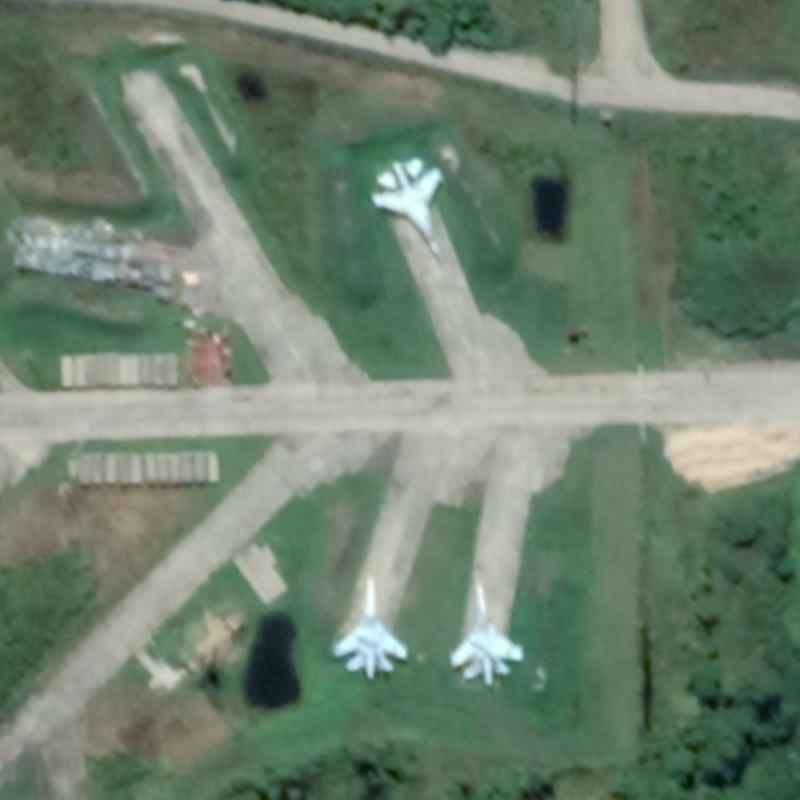A1: (331, 574, 408, 682), (448, 579, 524, 687), (367, 153, 444, 259)
